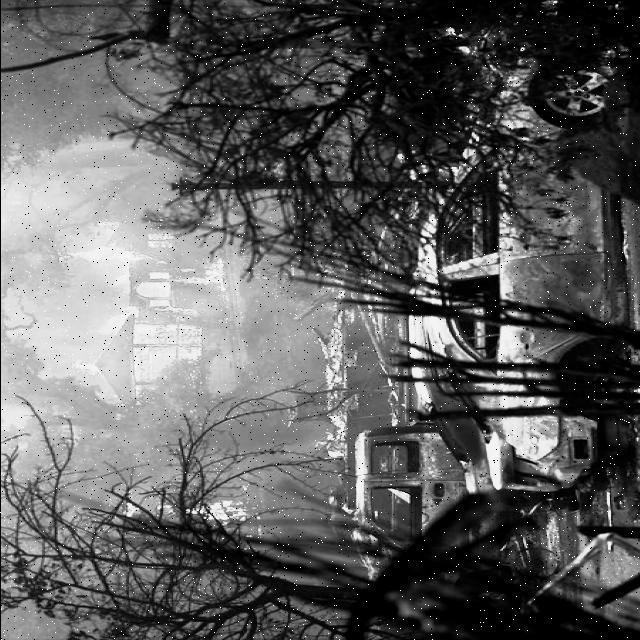api: (50, 220, 143, 290), (178, 258, 235, 295), (159, 501, 246, 525), (88, 306, 146, 337), (139, 265, 174, 305), (132, 323, 187, 338), (68, 359, 105, 377), (116, 500, 140, 521)
